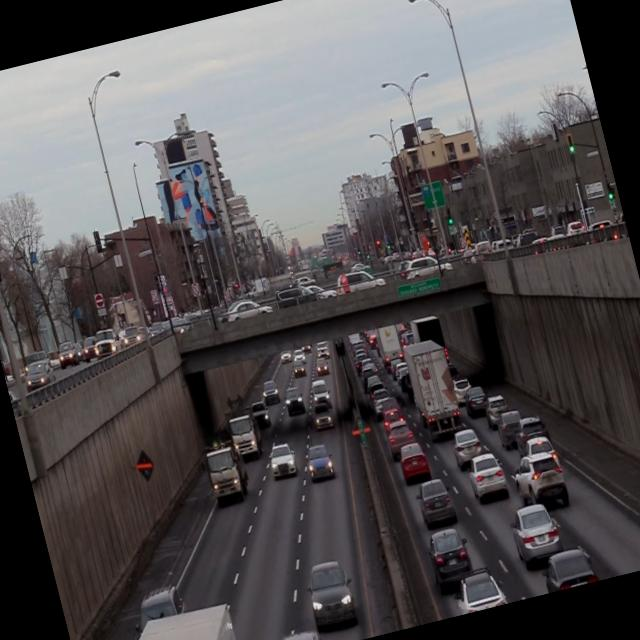Vehicle: (400, 335, 468, 442), (300, 554, 365, 635), (506, 499, 568, 568), (198, 437, 253, 511), (511, 450, 572, 516), (422, 522, 478, 590), (537, 542, 601, 594), (450, 564, 512, 615), (222, 394, 268, 462), (464, 451, 511, 506), (414, 476, 458, 528), (396, 438, 434, 486), (512, 414, 554, 456), (448, 426, 486, 472), (302, 438, 339, 484), (265, 440, 300, 483), (494, 408, 527, 448), (482, 390, 514, 430), (310, 400, 334, 432)
